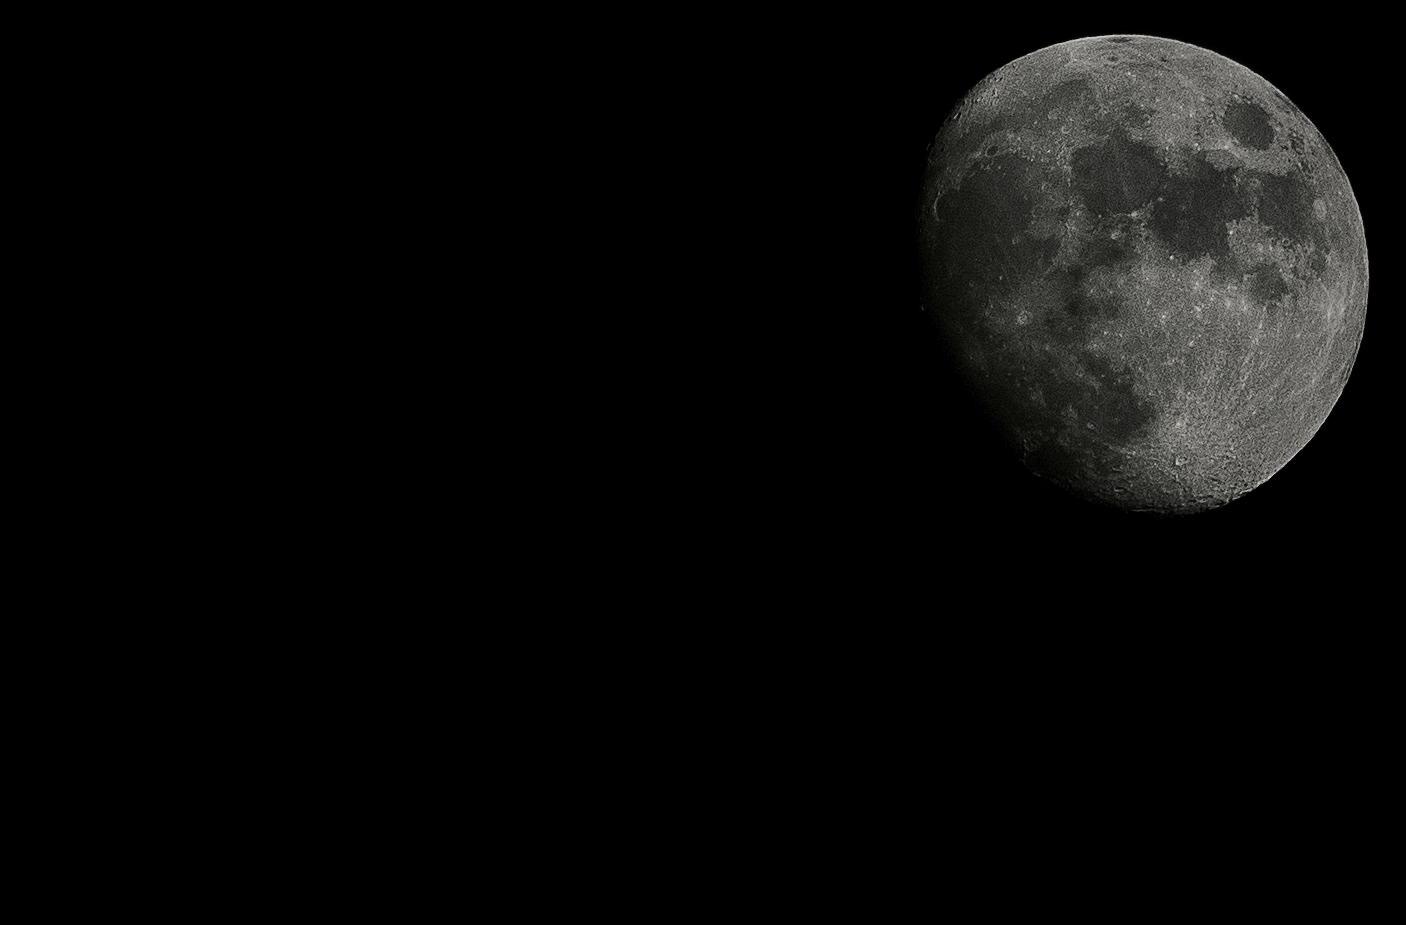crater: (1203, 94, 1284, 154), (1148, 425, 1215, 490), (996, 276, 1055, 346), (1306, 191, 1339, 243), (1140, 321, 1182, 357), (1094, 47, 1131, 72), (1104, 225, 1125, 254), (1146, 50, 1177, 68), (982, 138, 1006, 161)
